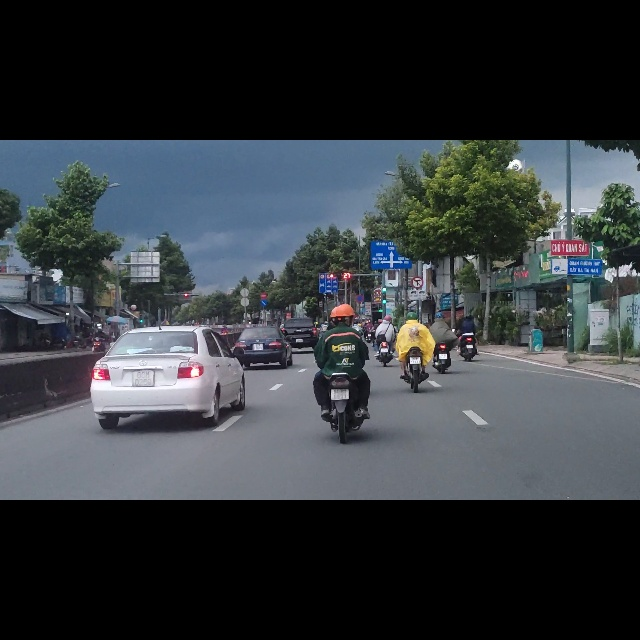bien_chi_dan: (319, 246, 338, 273), (412, 243, 423, 264), (356, 276, 363, 289), (260, 271, 267, 283), (260, 284, 267, 295)
